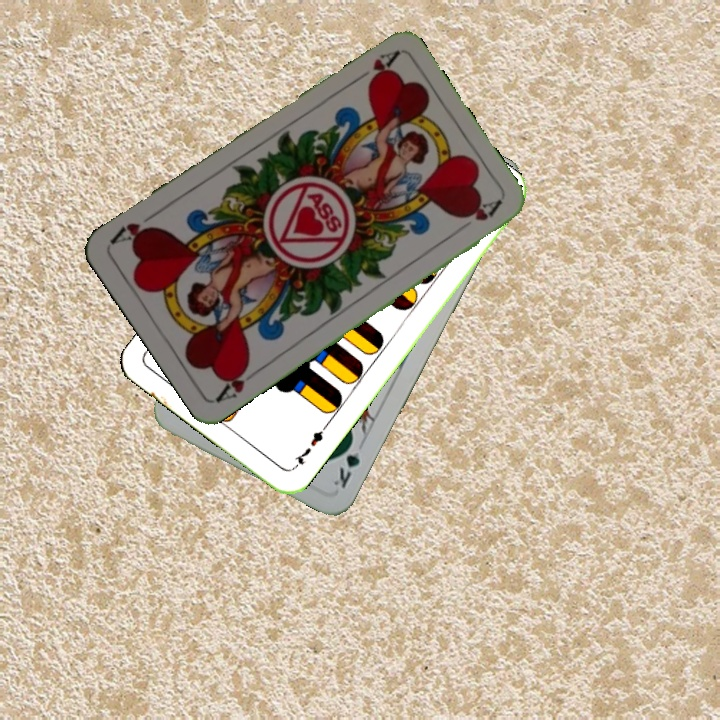E7: (288, 421, 330, 472)
GK: (329, 434, 363, 491)
HA: (212, 360, 264, 405), (347, 47, 401, 87)
